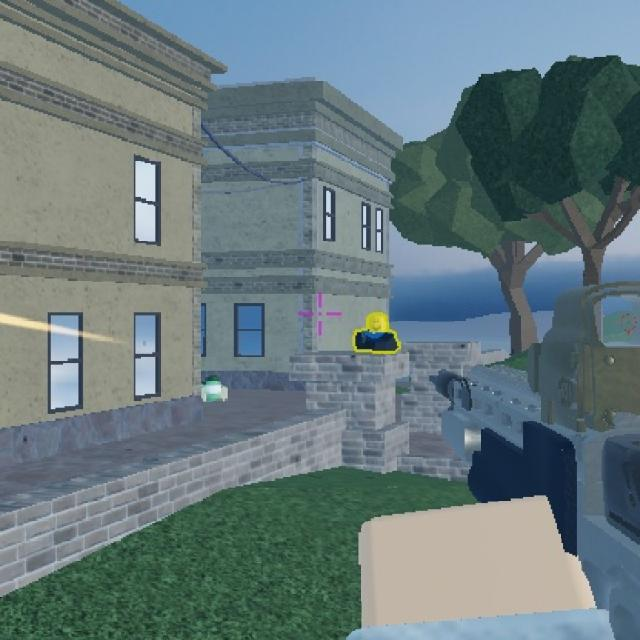player: (351, 312, 399, 356)
